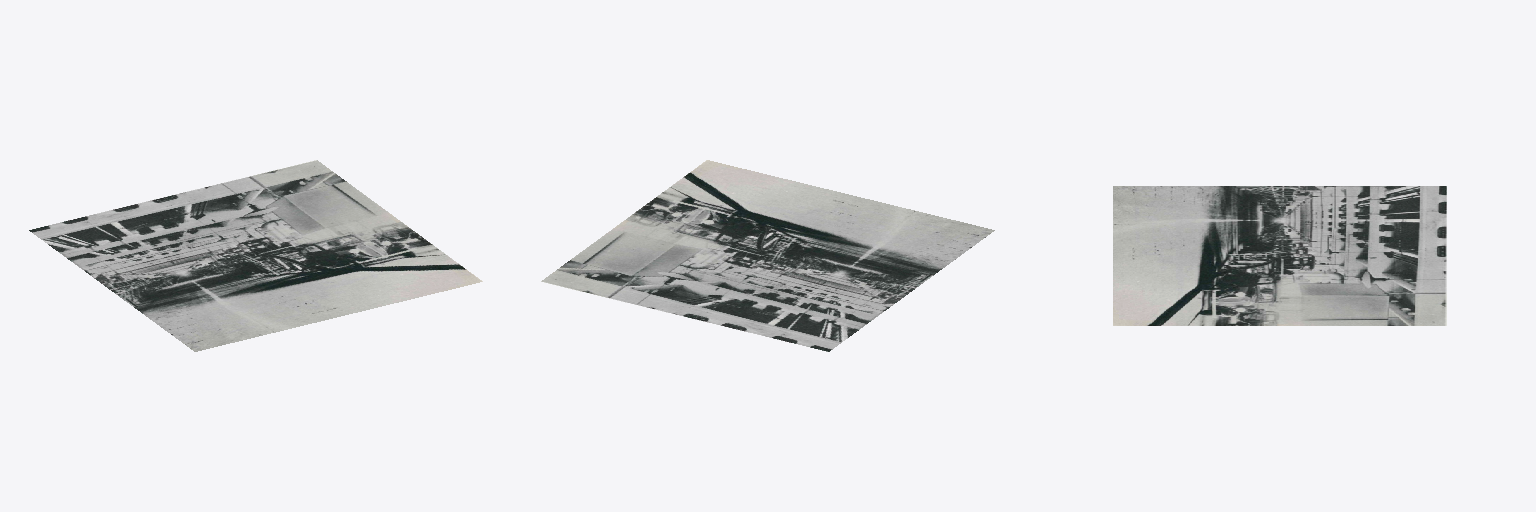
3 views of the same model, side by side, from view 1: azimuth 30°, elevation 25°; view 2: azimuth 150°, elevation 25°; view 3: azimuth 270°, elevation 25° (orthographic).
Visible parts, largest first — view 1: Plane001; view 2: Plane001; view 3: Plane001.
Boxes of the visible parts, <box> form: Plane001: <box>29,160,482,351</box>; Plane001: <box>541,160,994,351</box>; Plane001: <box>1113,186,1446,325</box>.
Bounding box in the file's own units: 1.86 × 0 × 1.86.
1 materials, 1 textured.